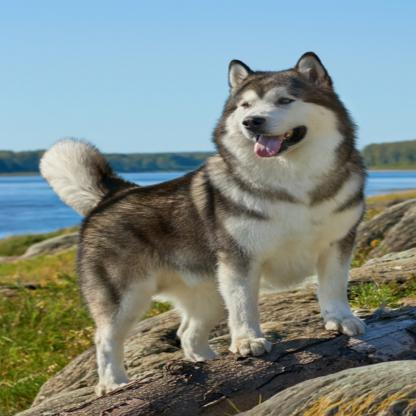husky: (32, 50, 370, 396)
